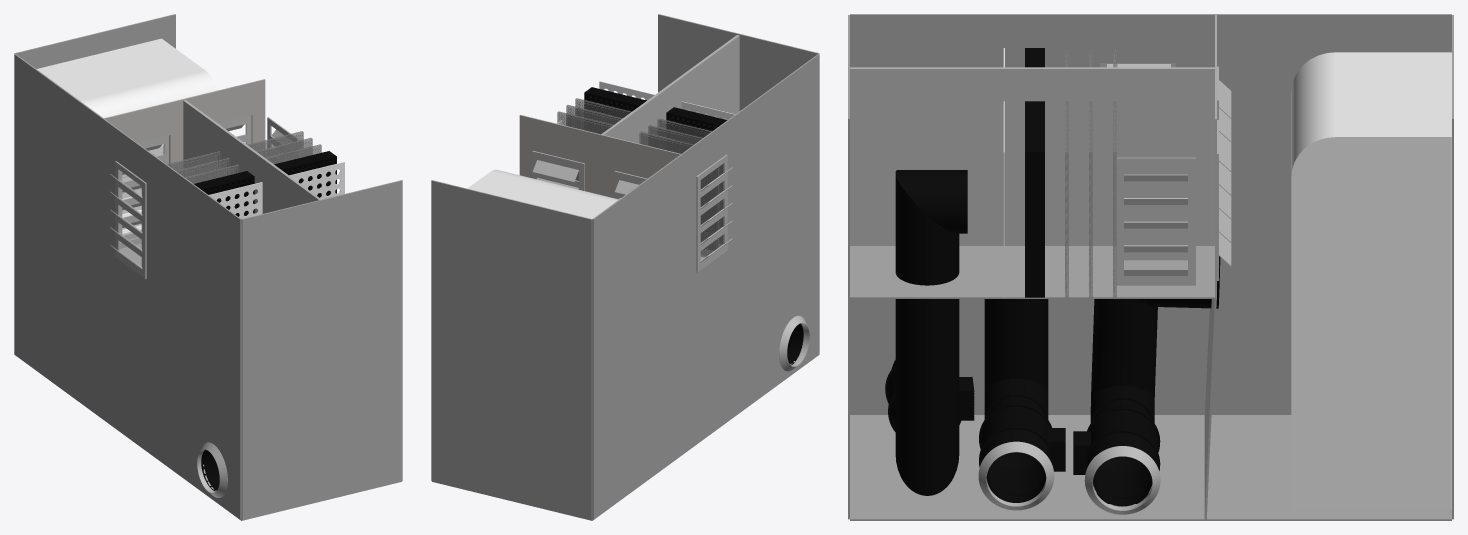
Rendered from compact-awh-system.glb.
3 renders of one model, left to right at view 1: azimuth 30°, elevation 25°; view 2: azimuth 150°, elevation 25°; view 3: azimuth 270°, elevation 25°, orthographic. The views are drawn at different scales.
Visible parts, largest first — view 1: Solid1 (×22); view 2: Solid1 (×19); view 3: Solid1 (×23).
Part boxes in pixels (box(x1,y1,x2,y2)): Solid1 (×22): box(14, 14, 402, 519); Solid1 (×19): box(431, 14, 819, 519); Solid1 (×23): box(848, 14, 1453, 520).
Bounding box in the file's own units: 0.675 × 1.11 × 1.51.
8 materials, 1 textured.
